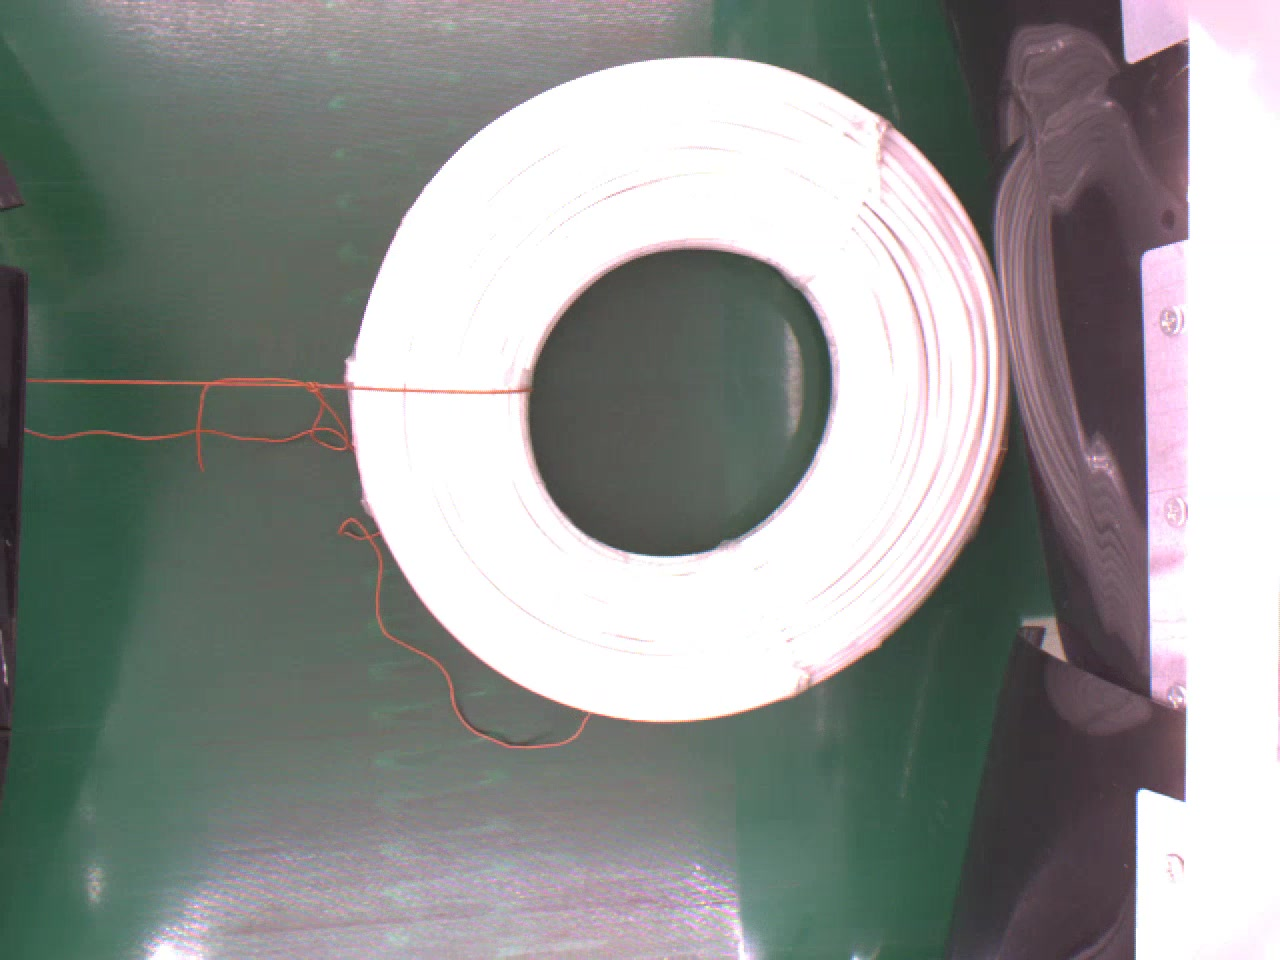white: (343, 54, 1024, 719)
